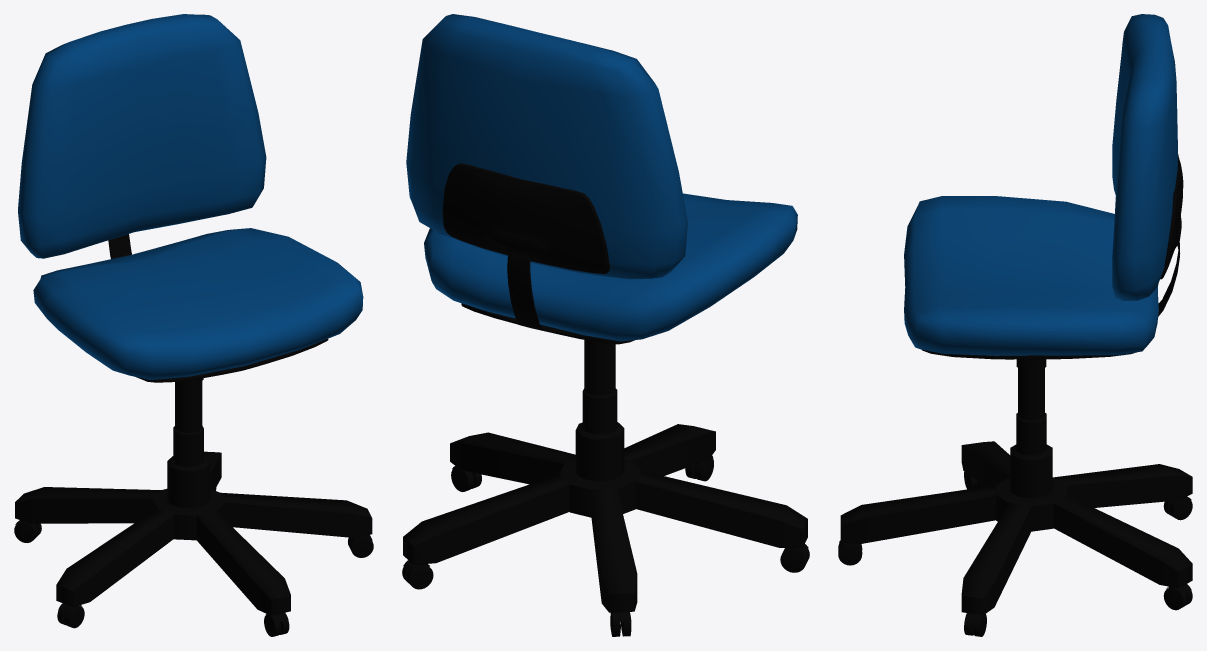
The model's file is office-chair.fbx.
3 renders of one model, left to right at view 1: azimuth 30°, elevation 25°; view 2: azimuth 150°, elevation 25°; view 3: azimuth 270°, elevation 25°, orthographic. The views are drawn at different scales.
Parts seen in each view (by area): view 1: Back Cushion, Seat Cushion, Leg, Hydraulics, Casters, Base Plate; view 2: Back Cushion, Leg, Seat Cushion, Base Plate, Hydraulics, Casters; view 3: Seat Cushion, Leg, Back Cushion, Hydraulics, Base Plate, Casters.
Boxes of the visible parts, left/top/right/bottom form: Back Cushion: left=18, top=14, right=266, bottom=258; Seat Cushion: left=33, top=228, right=363, bottom=380; Leg: left=15, top=451, right=372, bottom=615; Hydraulics: left=152, top=381, right=224, bottom=540; Casters: left=14, top=488, right=373, bottom=636; Base Plate: left=108, top=234, right=328, bottom=384; Back Cushion: left=406, top=14, right=687, bottom=279; Leg: left=403, top=424, right=807, bottom=612; Seat Cushion: left=424, top=193, right=797, bottom=341; Base Plate: left=442, top=163, right=634, bottom=344; Hydraulics: left=559, top=340, right=640, bottom=517; Casters: left=402, top=455, right=809, bottom=636; Seat Cushion: left=904, top=196, right=1158, bottom=355; Leg: left=840, top=441, right=1192, bottom=615; Back Cushion: left=1112, top=14, right=1177, bottom=300; Hydraulics: left=995, top=368, right=1067, bottom=531; Base Plate: left=921, top=154, right=1183, bottom=371; Casters: left=838, top=471, right=1192, bottom=636.
Size of the model in its own units: 0.4719 by 0.7569 by 0.4962.
